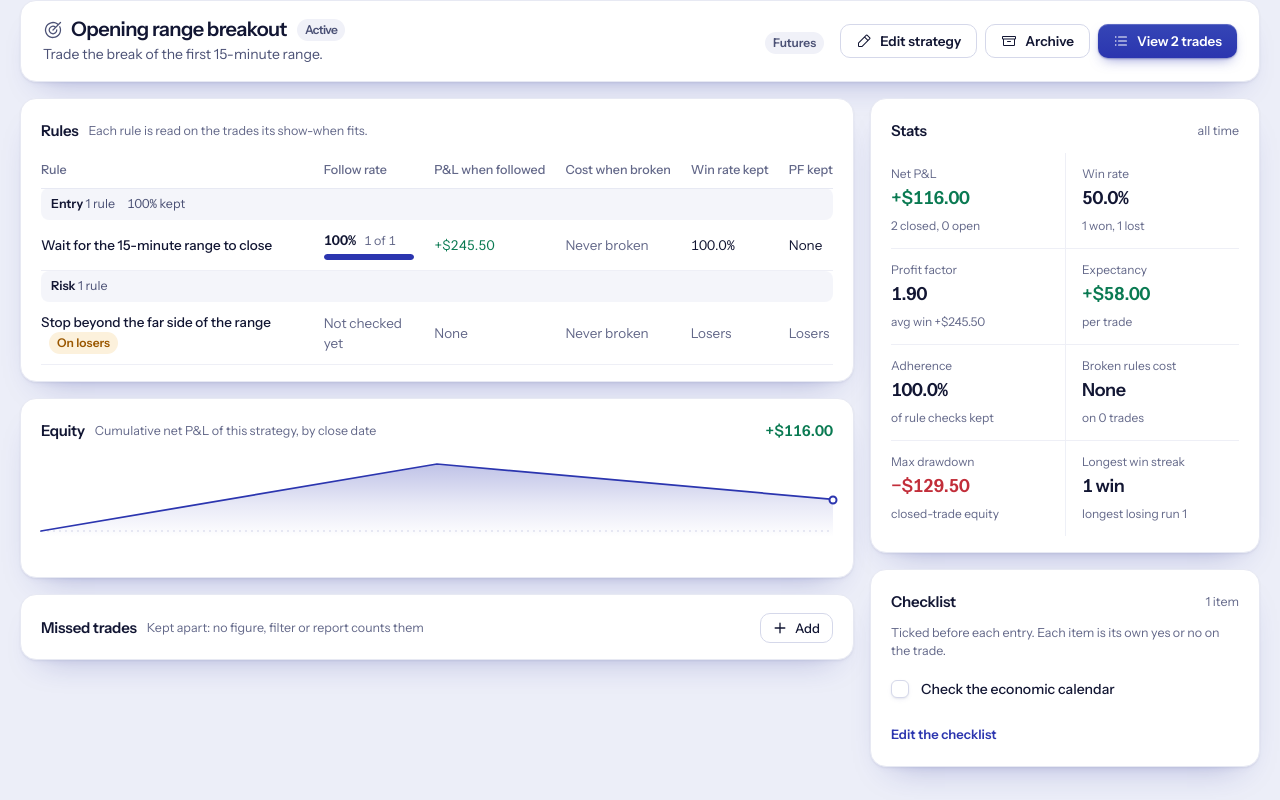
Test: if archiving fails the header says so, neutrally
Step 1. Click the button "Archive" → (1038,41), box [985,24,1090,58]
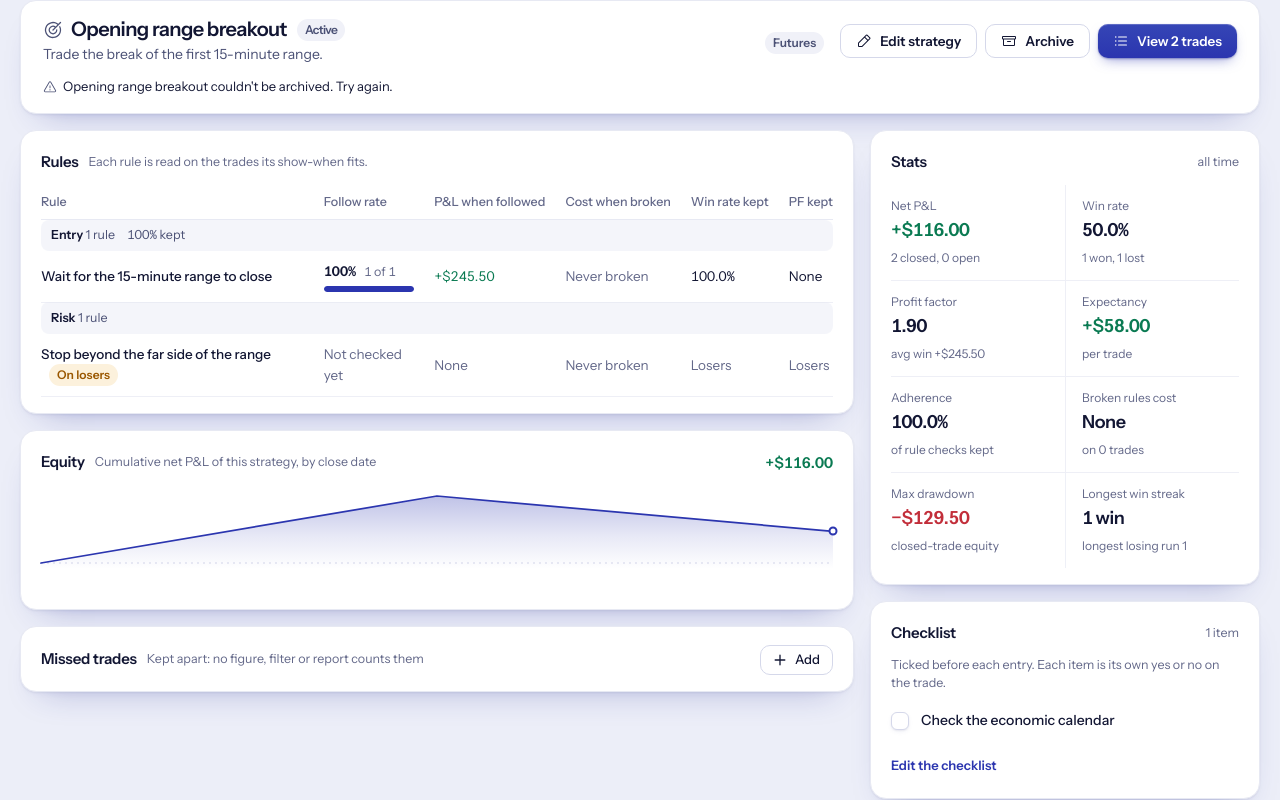
expect the message "Opening range breakout couldn't be archived. Try again." is shown: met, box [43,78,392,94]
